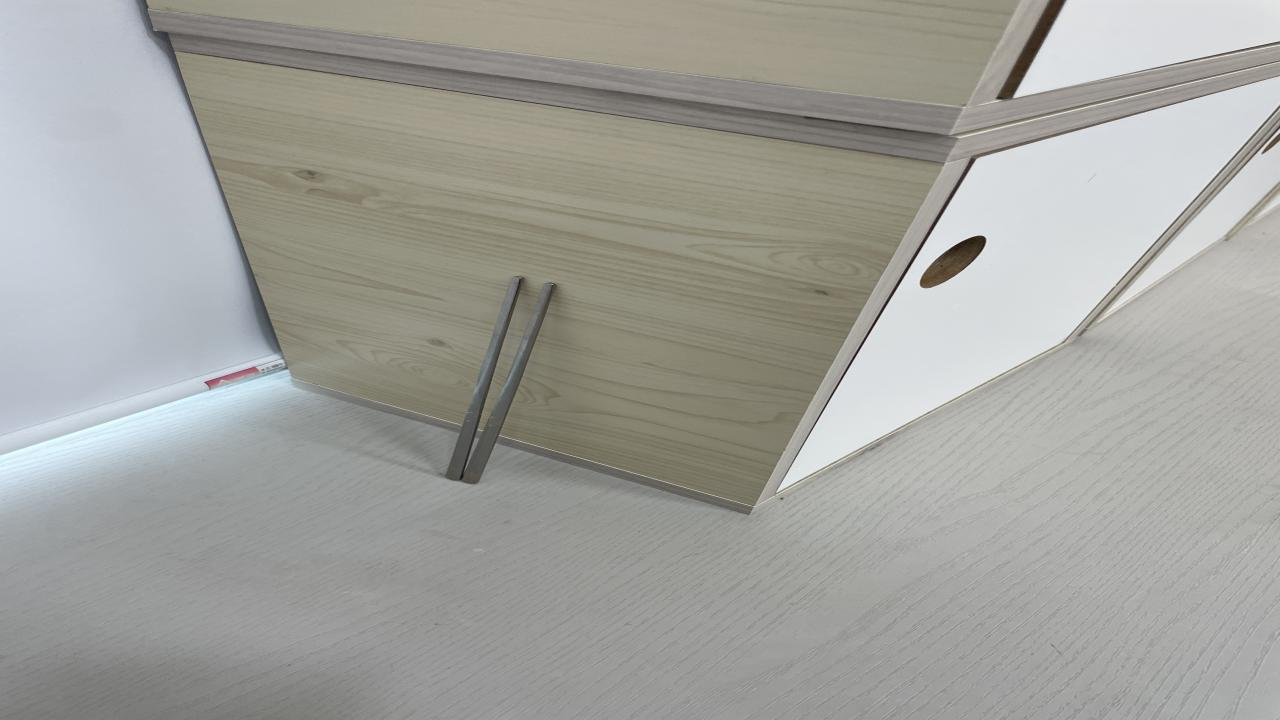chopstick: (441, 280, 559, 484)
